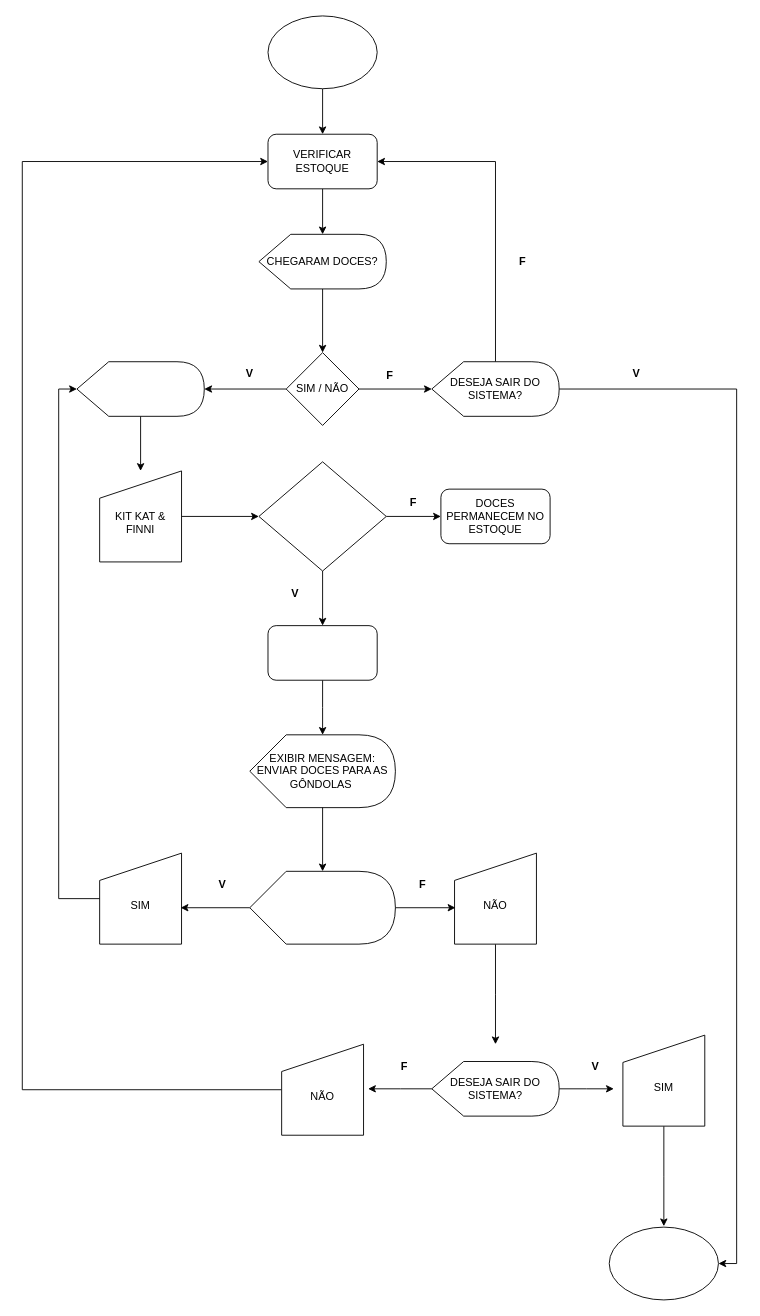
This 760x1316 diagram has some shape labels left out. The shapes that lost their labels are listed below. From the top down, each one's centre as x and y in pixels, then its label:
At point (322, 52): "INÍCIO DO SISTEMA".
At point (140, 388): "QUAIS DOCES?".
At point (322, 516): "ENVIAR PARA AS GÔNDOLAS".
At point (322, 652): "DOCES VÃO AS AS GÔNDOLAS".
At point (322, 907): "CHEGOU MAIS DOCES?".
At point (663, 1263): "FIM DO SISTEMA".
